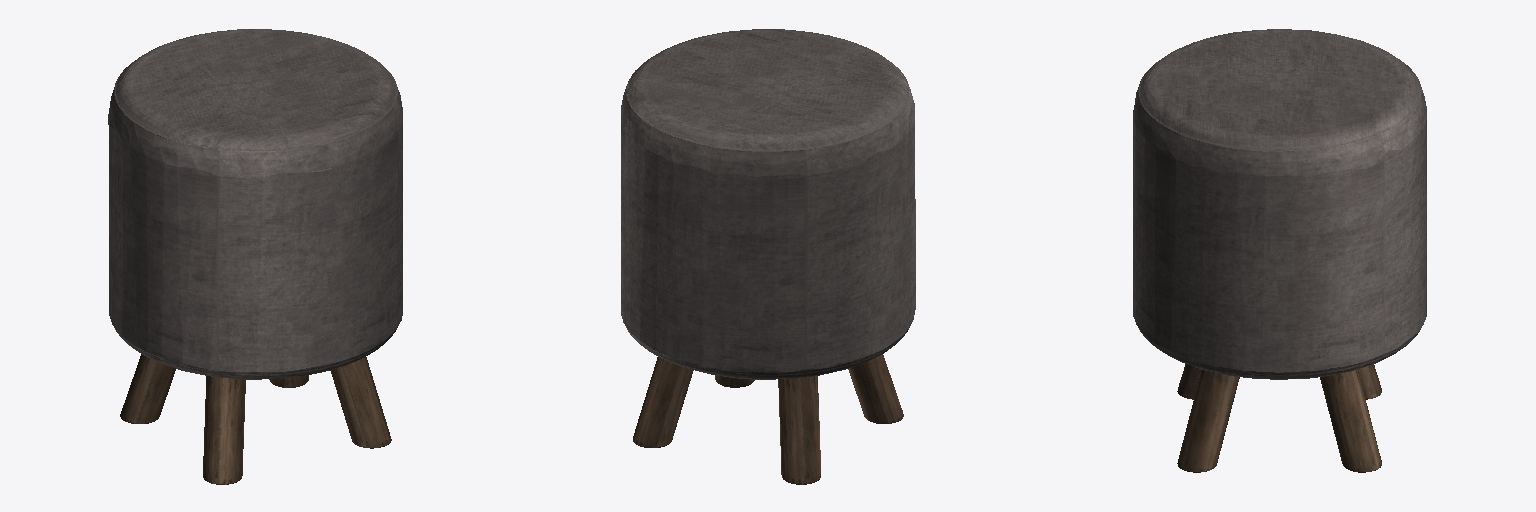
3 views of the same model, side by side, from view 1: azimuth 30°, elevation 25°; view 2: azimuth 150°, elevation 25°; view 3: azimuth 270°, elevation 25° (orthographic).
Parts seen in each view (by area): view 1: solid_001, solid_002; view 2: solid_001, solid_002; view 3: solid_001, solid_002.
Boxes of the visible parts, x1=… form: solid_001: x1=108, y1=29, x2=402, y2=379; solid_002: x1=120, y1=354, x2=391, y2=484; solid_001: x1=621, y1=29, x2=915, y2=379; solid_002: x1=633, y1=354, x2=903, y2=484; solid_001: x1=1133, y1=29, x2=1426, y2=379; solid_002: x1=1177, y1=364, x2=1381, y2=472.
Bounding box in the file's own units: 1.12 × 1.44 × 1.12.
1 materials, 1 textured.